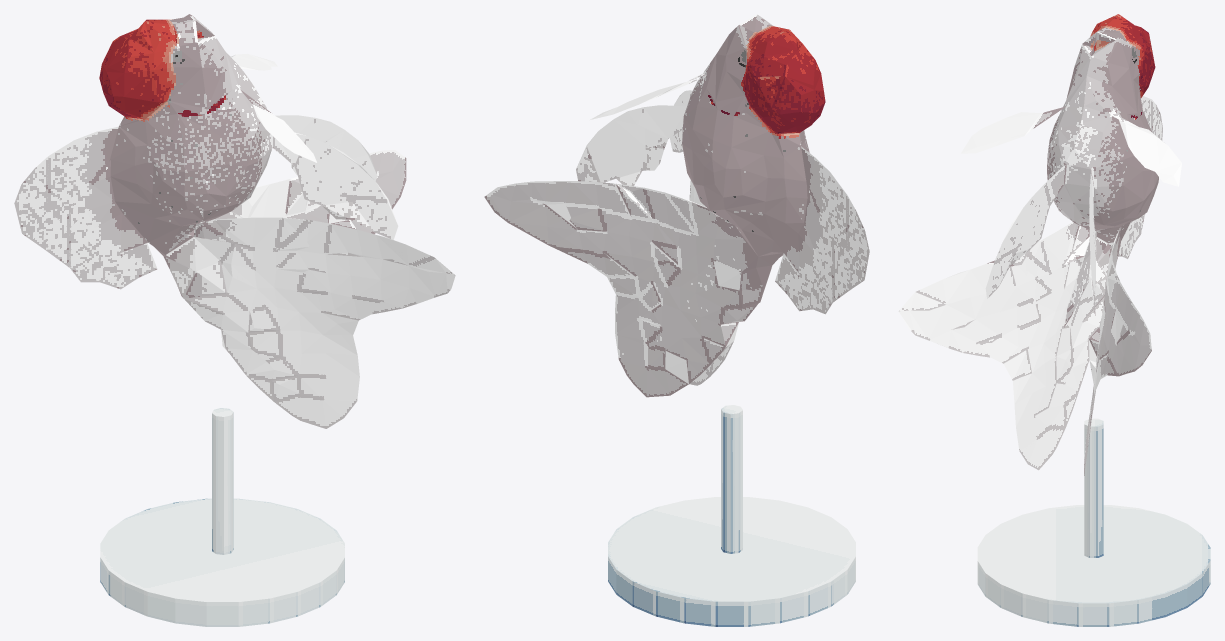
The model's file is golden.glb.
3 views of the same model, side by side, from view 1: azimuth 30°, elevation 25°; view 2: azimuth 150°, elevation 25°; view 3: azimuth 270°, elevation 25° (orthographic). The views are drawn at different scales.
Parts seen in each view (by area): view 1: model_fish, base, base_rod; view 2: model_fish, base, base_rod; view 3: model_fish, base, base_rod.
Boxes of the visible parts, <box> form: model_fish: <box>14,14,455,428</box>; base: <box>100,498,344,626</box>; base_rod: <box>212,408,233,554</box>; model_fish: <box>484,14,869,397</box>; base: <box>608,497,855,626</box>; base_rod: <box>721,405,742,553</box>; model_fish: <box>898,14,1181,475</box>; base: <box>977,505,1210,626</box>; base_rod: <box>1084,418,1103,557</box>.
Size of the model in its own units: 32.52 by 45.08 by 23.91.
2 materials, 2 textured.
